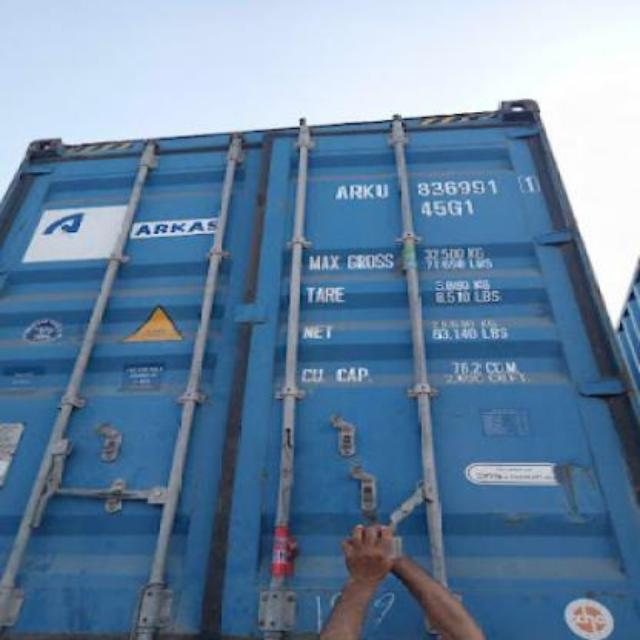1: (486, 178, 499, 194), (524, 176, 534, 192)
3: (432, 182, 444, 194)
6: (442, 180, 460, 196)
8: (416, 182, 429, 196)
9: (458, 182, 472, 194), (472, 182, 486, 194)
A: (336, 184, 348, 200)
K: (362, 182, 376, 198)
R: (350, 183, 360, 201)
U: (376, 183, 388, 199)
